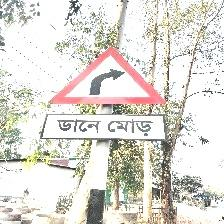Right-turn: (43, 48, 167, 143)
